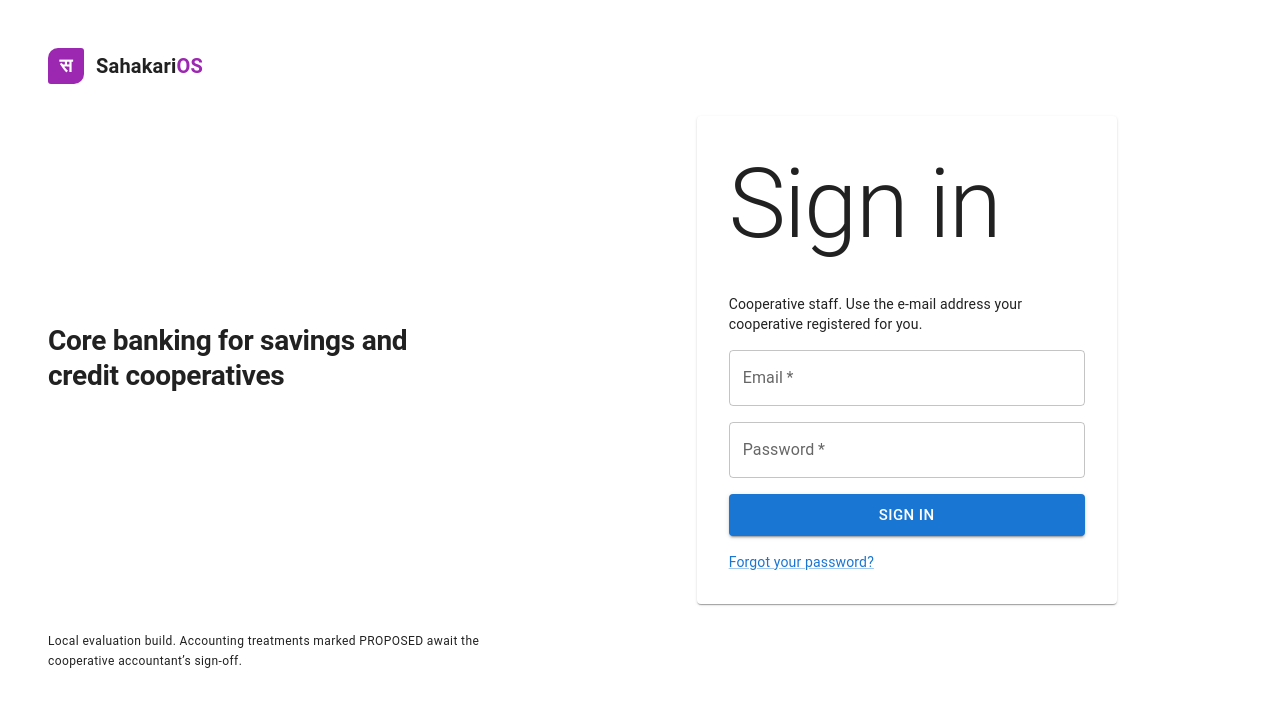
Test case: LoginPage › explains throttling with the retry time
This screenshot has width=1280, height=720.
In the field labelled "Email *": (907, 378) x1=729 y1=350 x2=1085 y2=406, type "staff@example.test"
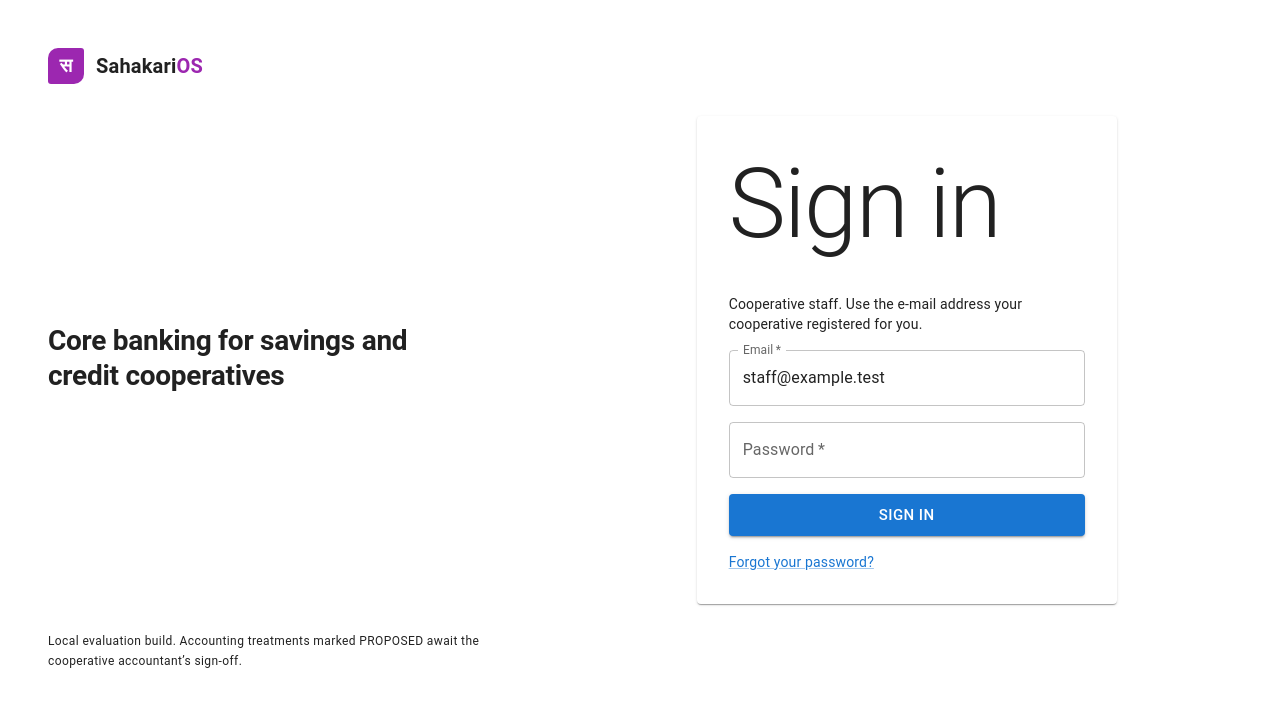
In the password field labelled "Password *": (907, 450) x1=729 y1=422 x2=1085 y2=478, type "secret-password"
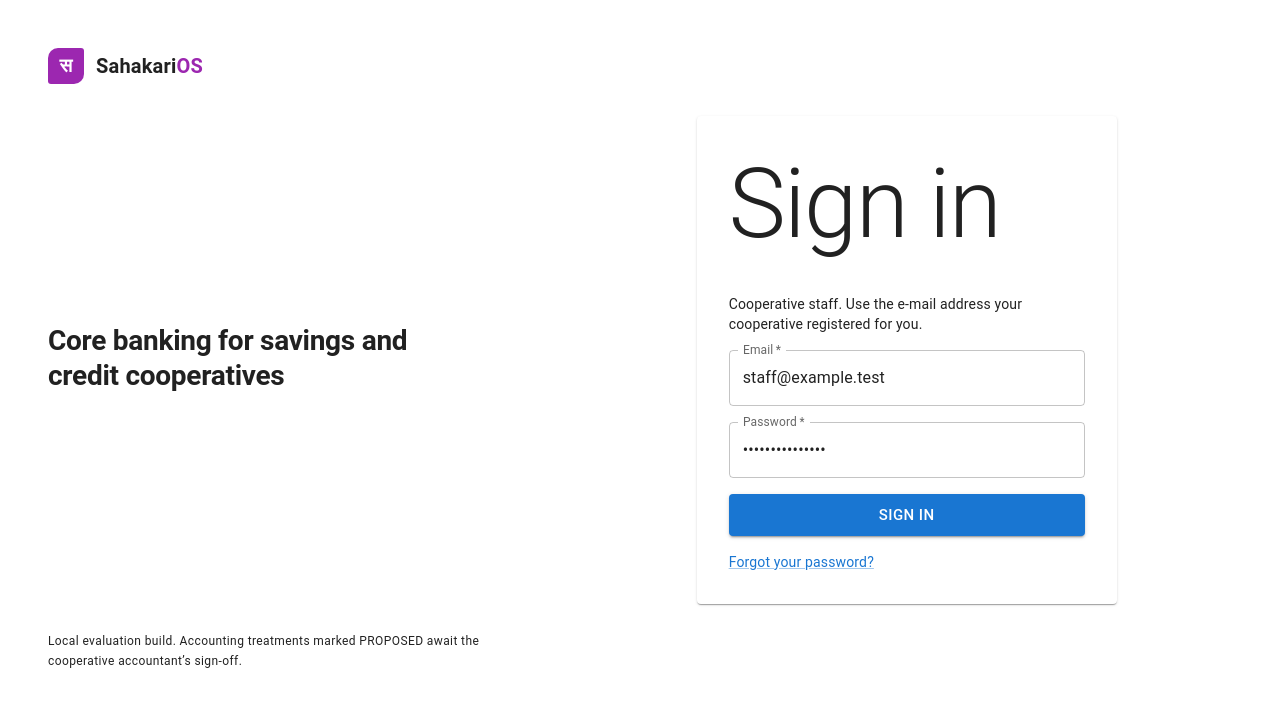
Click the button "Sign in": (907, 515) x1=729 y1=494 x2=1085 y2=536
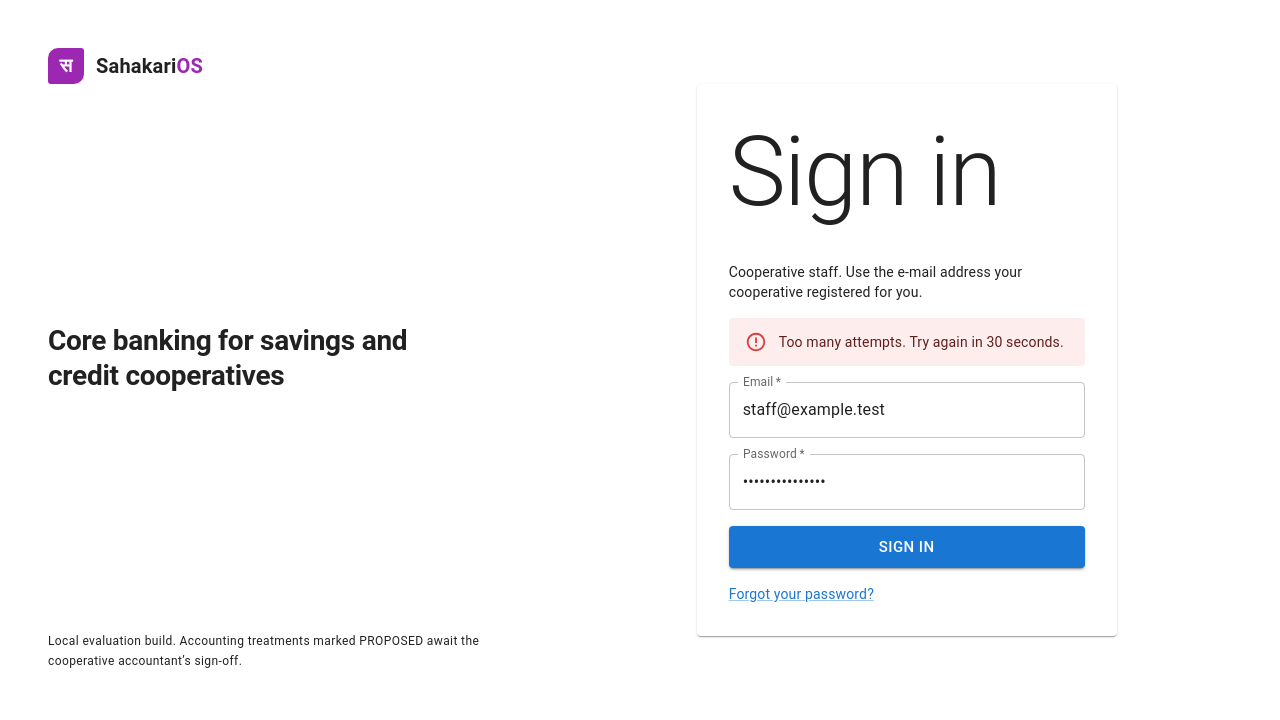
Now the text "Too many attempts. Try again in 30 seconds." is shown, box x1=779 y1=334 x2=1064 y2=350
